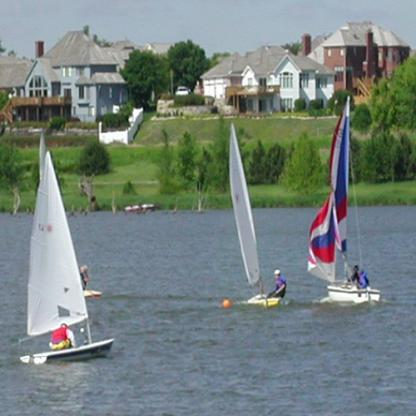boat: (19, 150, 114, 366), (306, 95, 381, 304), (229, 122, 287, 308)
